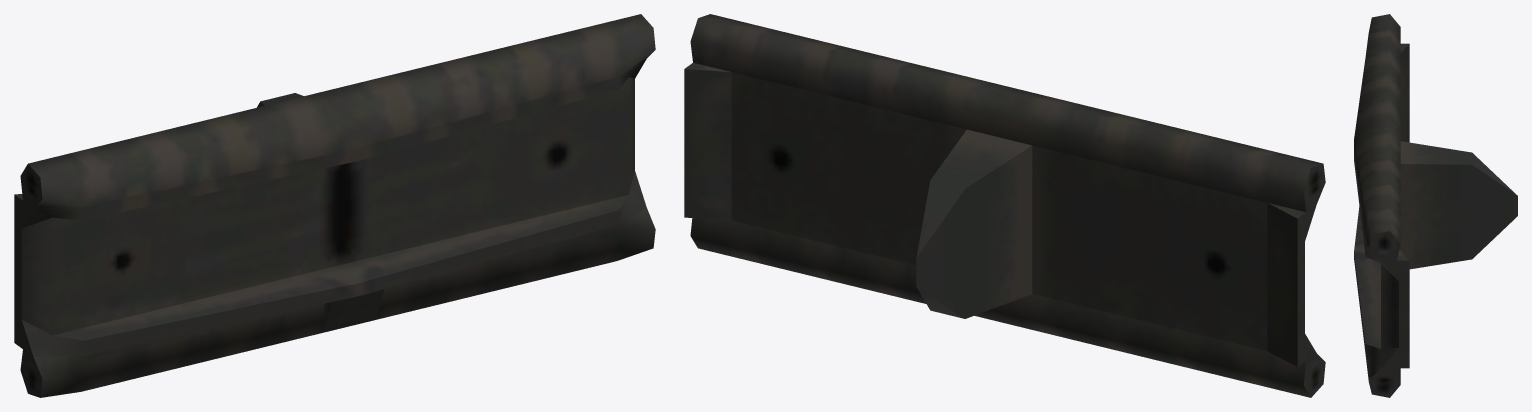
3 views of the same model, side by side, from view 1: azimuth 30°, elevation 25°; view 2: azimuth 150°, elevation 25°; view 3: azimuth 270°, elevation 25° (orthographic). The views are drawn at different scales.
Visible parts, largest first — view 1: set_0_group_0; view 2: set_0_group_0; view 3: set_0_group_0.
Boxes of the visible parts, x1,y1,x2,y2 form: set_0_group_0: [14, 14, 655, 397]; set_0_group_0: [684, 14, 1325, 397]; set_0_group_0: [1354, 14, 1517, 397].
Size of the model in its own units: 0.55 by 0.1972 by 0.1753.
1 material, 1 textured.
